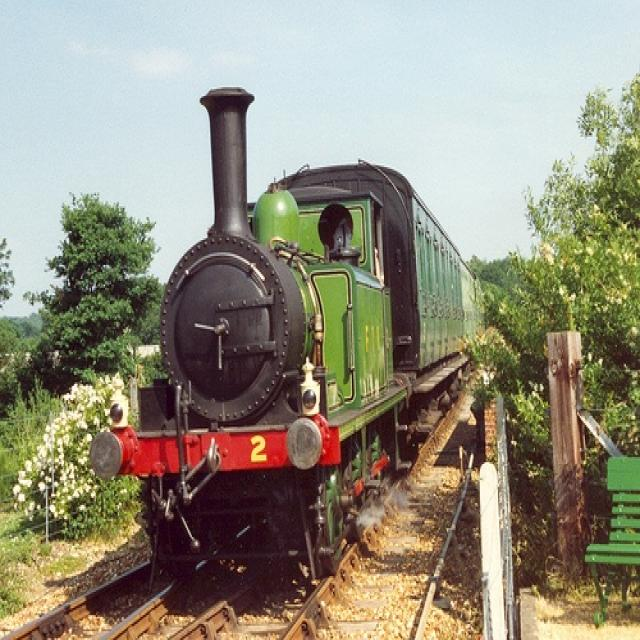train: (86, 87, 486, 574)
